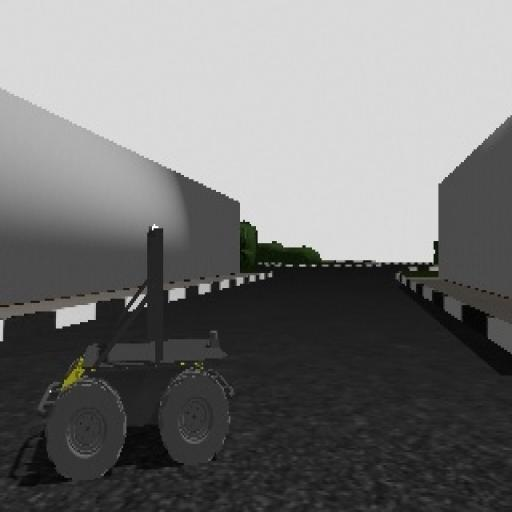huskya200: (19, 212, 270, 481)
